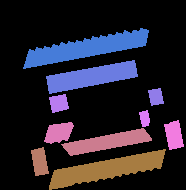parkingspot: (23, 28, 148, 68), (49, 149, 165, 189), (46, 60, 137, 93), (61, 128, 151, 155), (44, 122, 73, 143), (164, 120, 183, 149), (31, 147, 48, 175), (49, 94, 68, 112), (148, 88, 163, 105), (139, 110, 149, 126)
